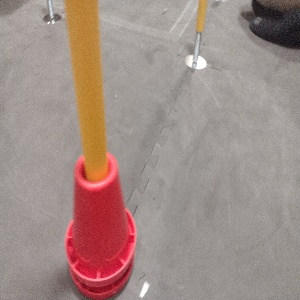Red_2: (63, 153, 136, 298)
